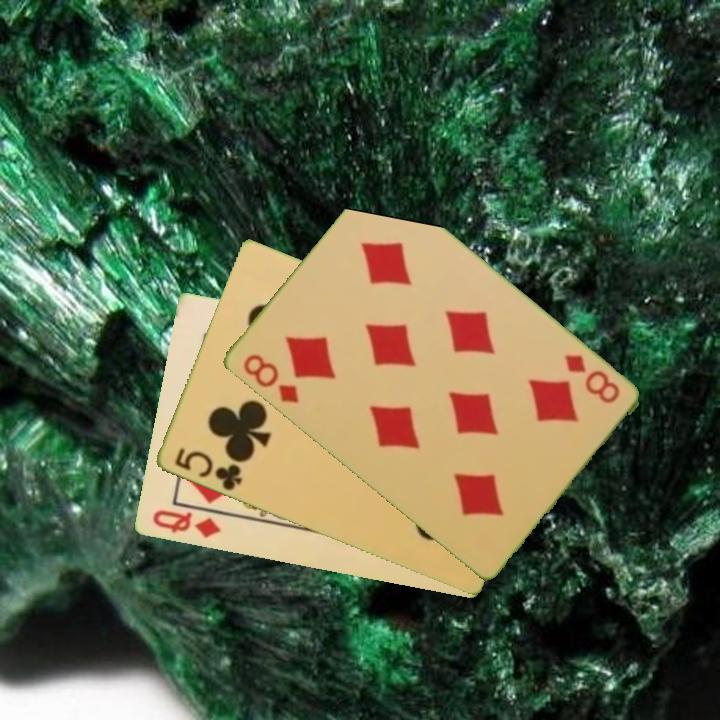5c: (170, 445, 245, 494)
8d: (239, 350, 302, 407), (560, 350, 622, 407)
Qd: (148, 507, 223, 541)
